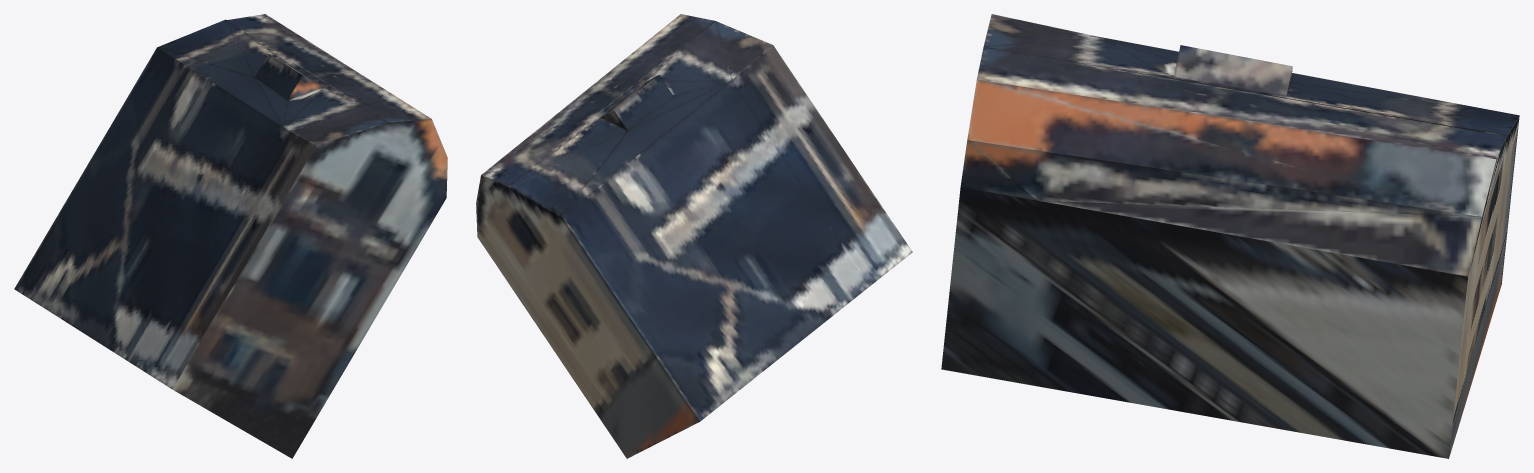
3 views of the same model, side by side, from view 1: azimuth 30°, elevation 25°; view 2: azimuth 150°, elevation 25°; view 3: azimuth 270°, elevation 25° (orthographic). The views are drawn at different scales.
Visible parts, largest first — view 1: BAG_0599100000760481 (×4); view 2: BAG_0599100000760481 (×4); view 3: BAG_0599100000760481 (×3).
Boxes of the visible parts, x1,y1,x2,y2 form: BAG_0599100000760481 (×4): (14,14,447,458); BAG_0599100000760481 (×4): (476,14,912,458); BAG_0599100000760481 (×3): (941,14,1519,458).
Size of the model in its own units: 11.52 by 12.54 by 14.26.
4 materials, 4 textured.
